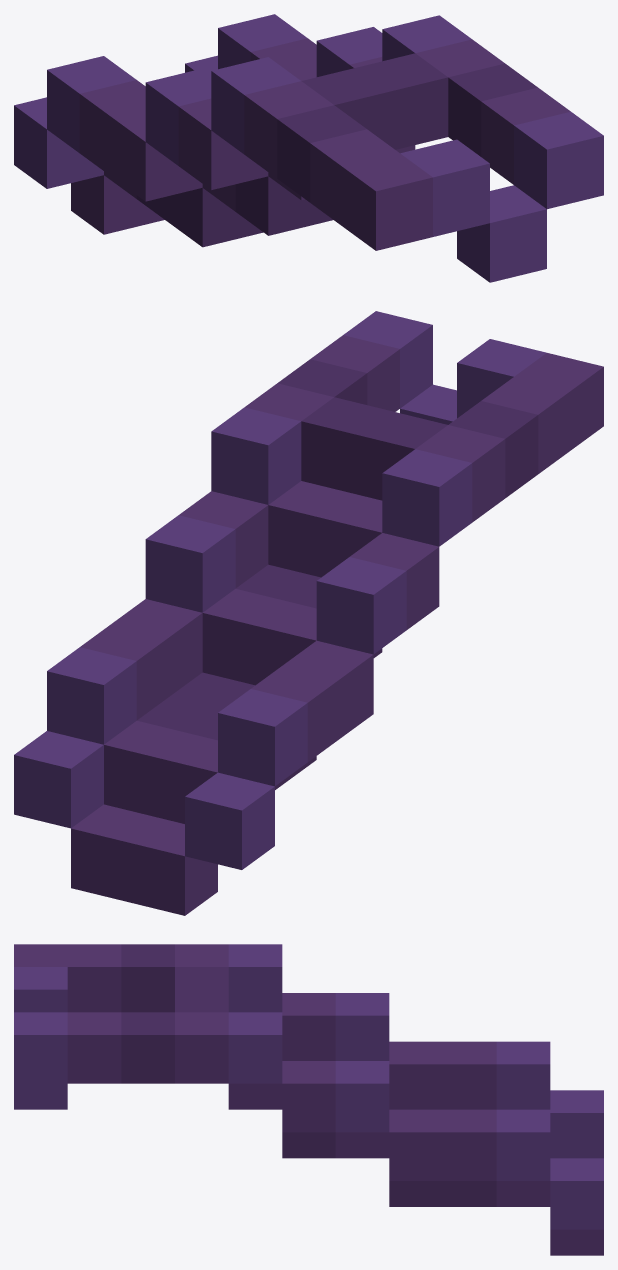
File: johnnycape.obj
3 renders of one model, top to bottom at view 1: azimuth 30°, elevation 25°; view 2: azimuth 150°, elevation 25°; view 3: azimuth 270°, elevation 25°, orthographic. The views are drawn at different scales.
Visible parts, largest first — view 1: johnnycape; view 2: johnnycape; view 3: johnnycape.
Boxes of the visible parts, x1,y1,x2,y2 form: johnnycape: [14, 14, 603, 282]; johnnycape: [14, 311, 603, 915]; johnnycape: [14, 944, 603, 1255].
Size of the model in its own units: 4 by 5 by 11.
1 material, 1 textured.
